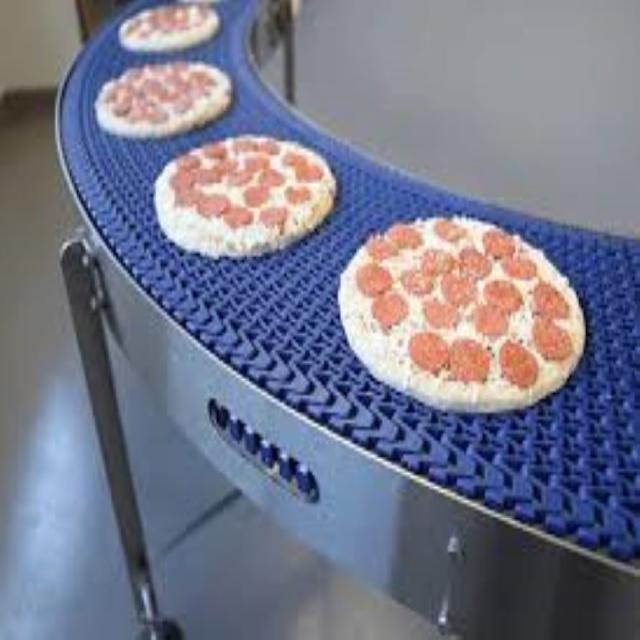food: (337, 207, 596, 432), (147, 124, 345, 270)
